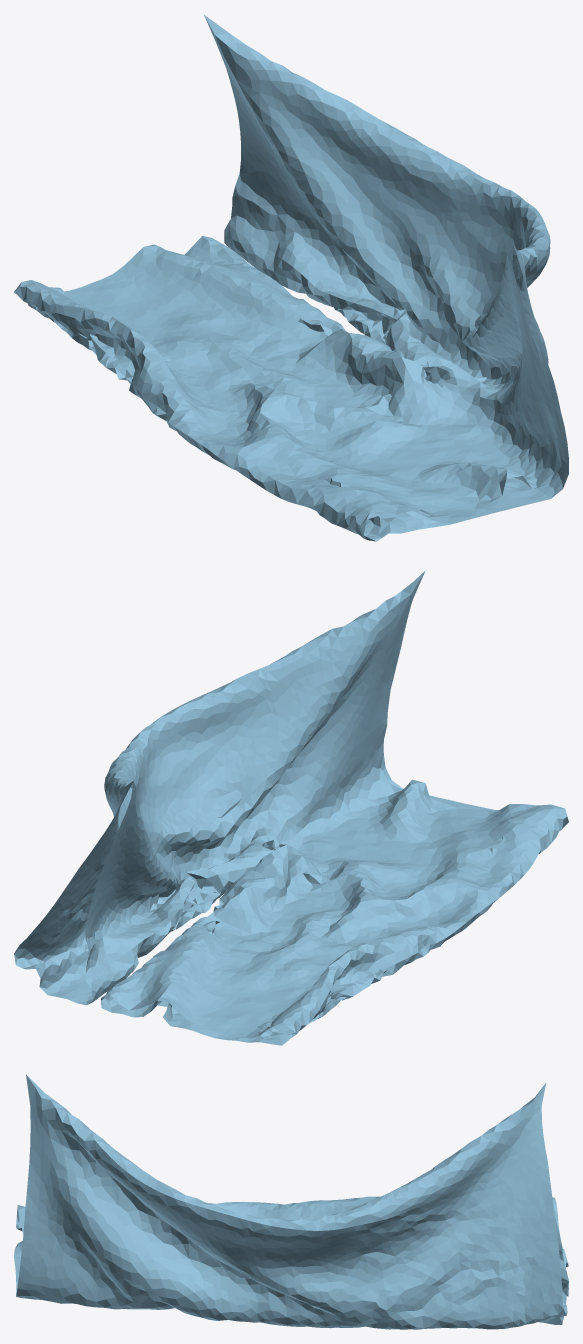
Rendered from frame_12.glb.
3 renders of one model, top to bottom at view 1: azimuth 30°, elevation 25°; view 2: azimuth 150°, elevation 25°; view 3: azimuth 270°, elevation 25°, orthographic. The views are drawn at different scales.
Parts seen in each view (by area): view 1: frame_12.obj; view 2: frame_12.obj; view 3: frame_12.obj.
Part boxes in pixels (x1=…): frame_12.obj: x1=14, y1=15, x2=568, y2=541; frame_12.obj: x1=14, y1=570, x2=568, y2=1045; frame_12.obj: x1=14, y1=1074, x2=568, y2=1329.
Size of the model in its own units: 0.9506 by 0.6863 by 1.6.
